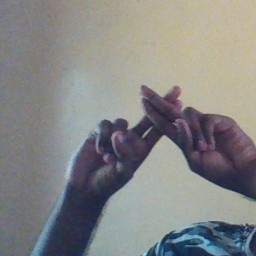F: (108, 71, 221, 164)
